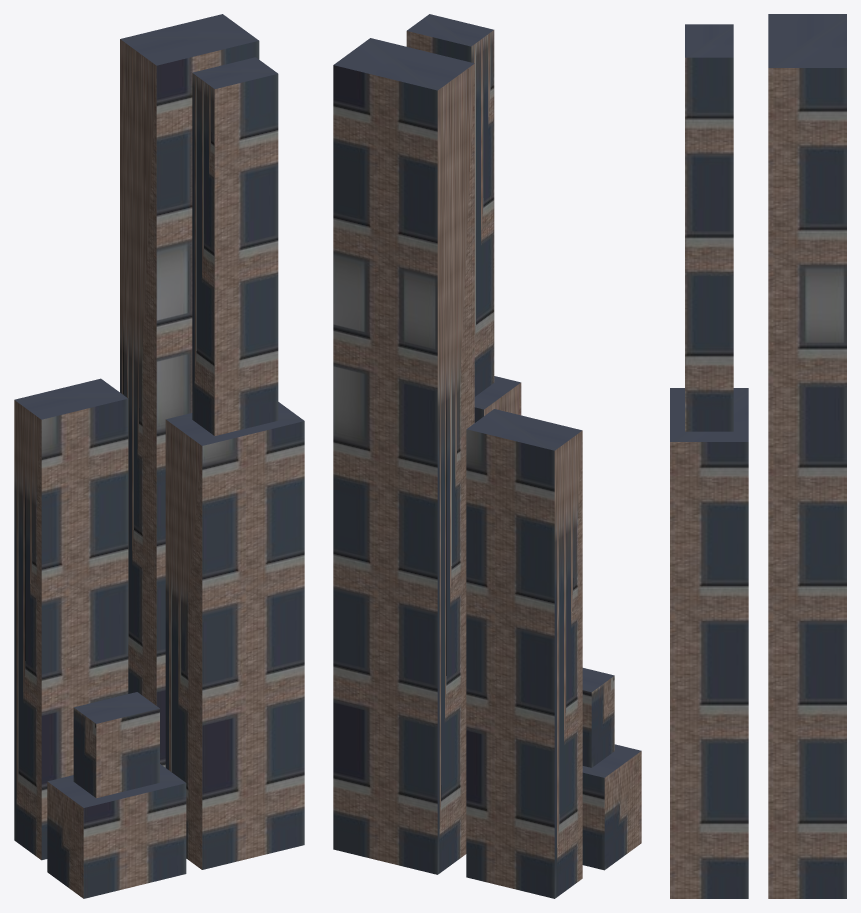
Rendered from block_04.obj.
3 renders of one model, left to right at view 1: azimuth 30°, elevation 25°; view 2: azimuth 150°, elevation 25°; view 3: azimuth 270°, elevation 25°, orthographic. The views are drawn at different scales.
Parts seen in each view (by area): view 1: b3, b0, b2, b1; view 2: b2, b0, b3, b1; view 3: b2, b3.
Boxes of the visible parts, x1,y1,x2,y2 form: b3: [165, 57, 304, 869]; b0: [14, 378, 128, 860]; b2: [120, 14, 259, 767]; b1: [47, 692, 186, 898]; b2: [333, 38, 474, 874]; b0: [466, 409, 582, 898]; b3: [406, 14, 521, 422]; b1: [582, 668, 641, 870]; b2: [768, 14, 846, 898]; b3: [670, 24, 748, 898].
Size of the model in its own units: 4.2 by 14 by 2.7.
